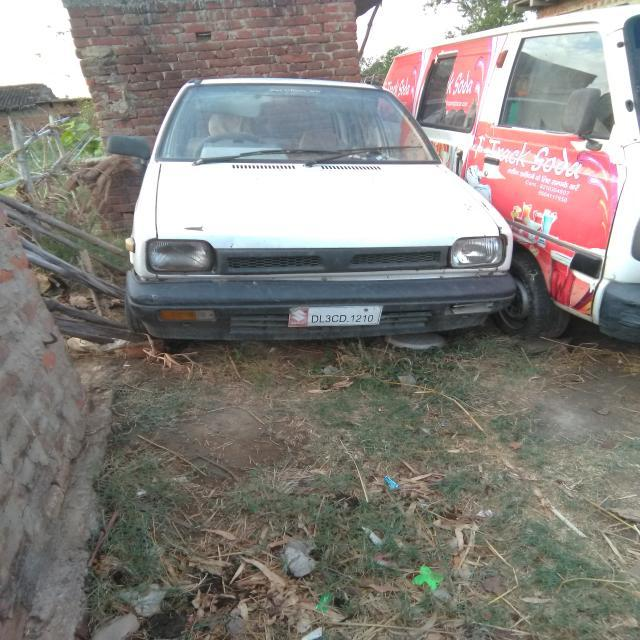plate: (304, 304, 382, 327)
